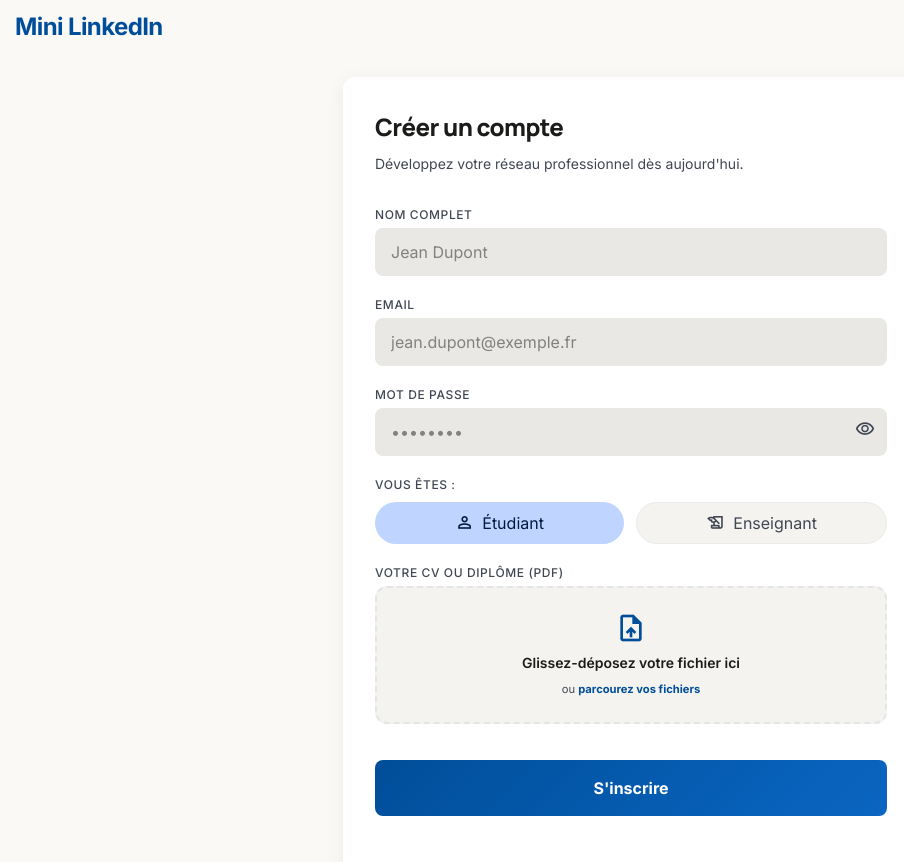
it: Register › désactive le bouton pendant le chargement
In the field with placeholder "Jean Dupont": [631, 252] box [375,228,887,276], type "Test User"
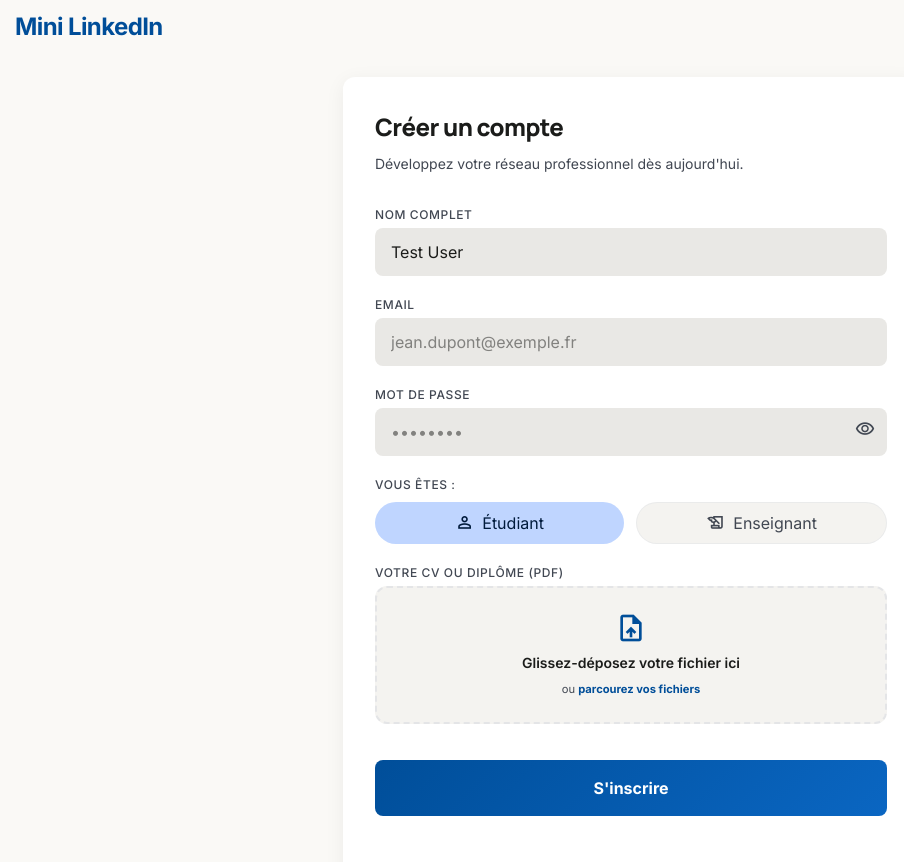
In the field with placeholder "jean.dupont@exemple.fr": [631, 342] box [375,318,887,366], type "test@test.com"
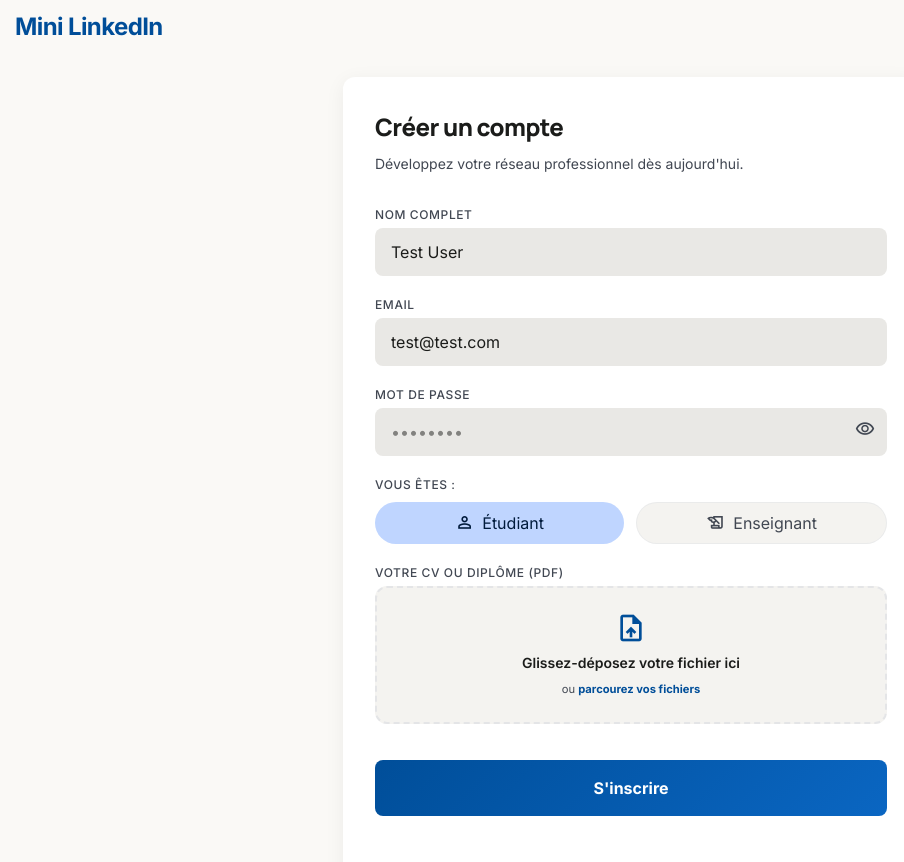
In the password field with placeholder "••••••••": [631, 432] box [375,408,887,456], type "password123"
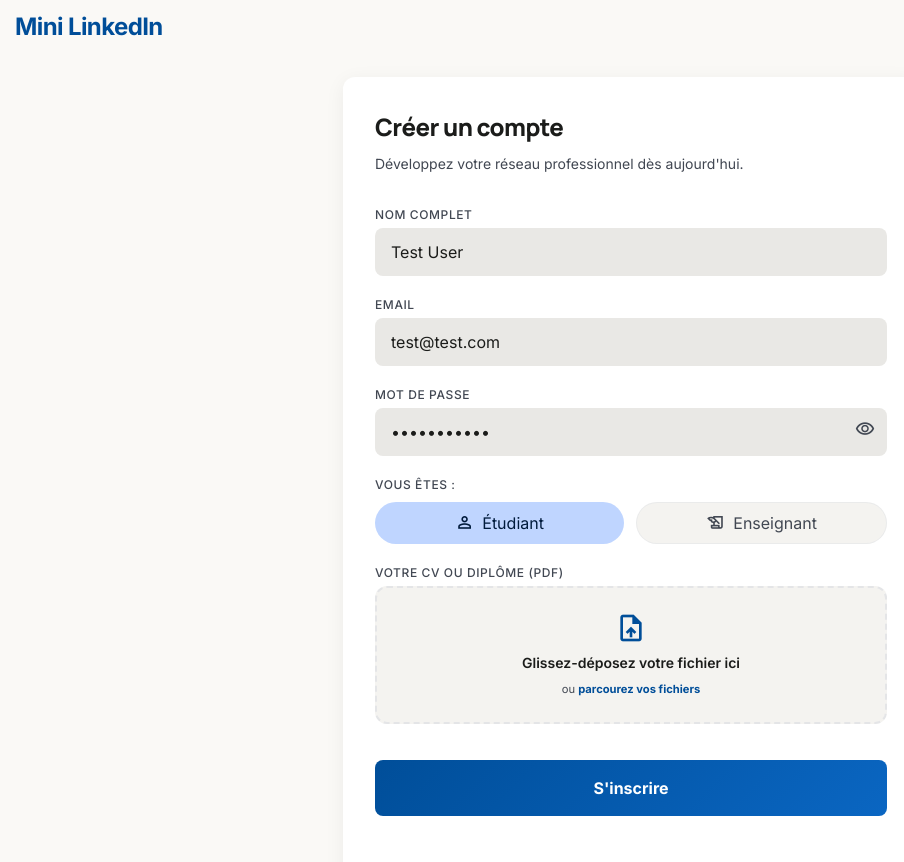
Click the button "S'inscrire": [631, 788] box [375,760,887,816]
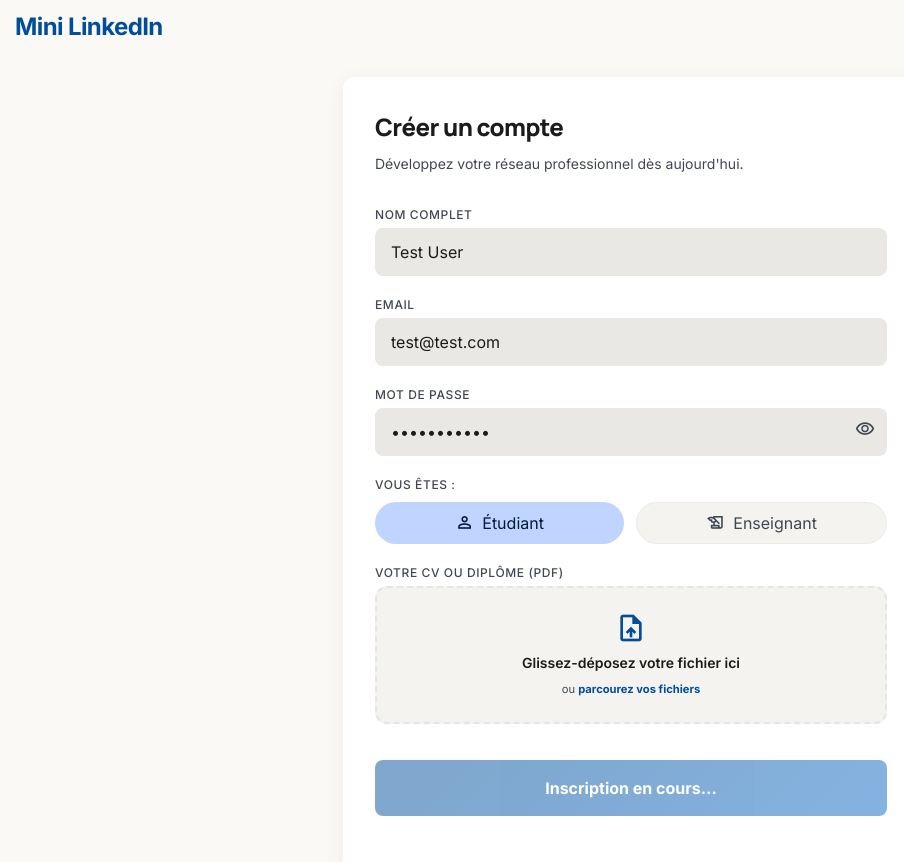
expect the button "S'inscrire" is disabled: met, box [375,760,887,816]
